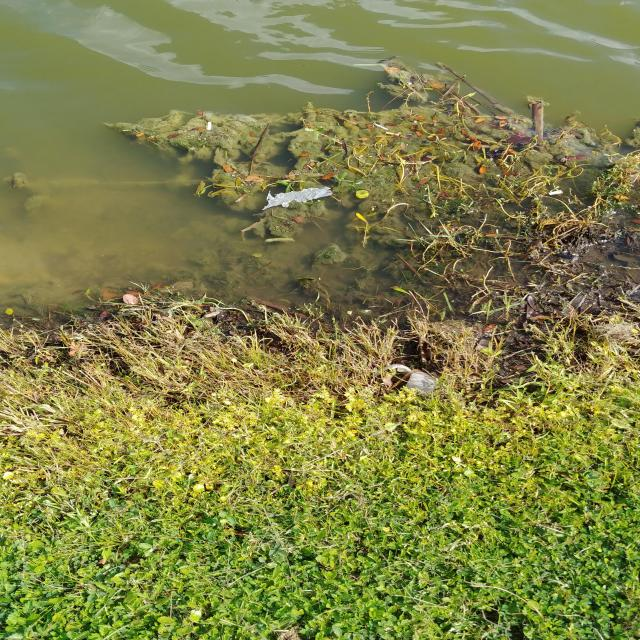litter: (262, 187, 333, 210), (383, 364, 437, 393)
